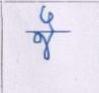ai_matra: (39, 5, 58, 30)
